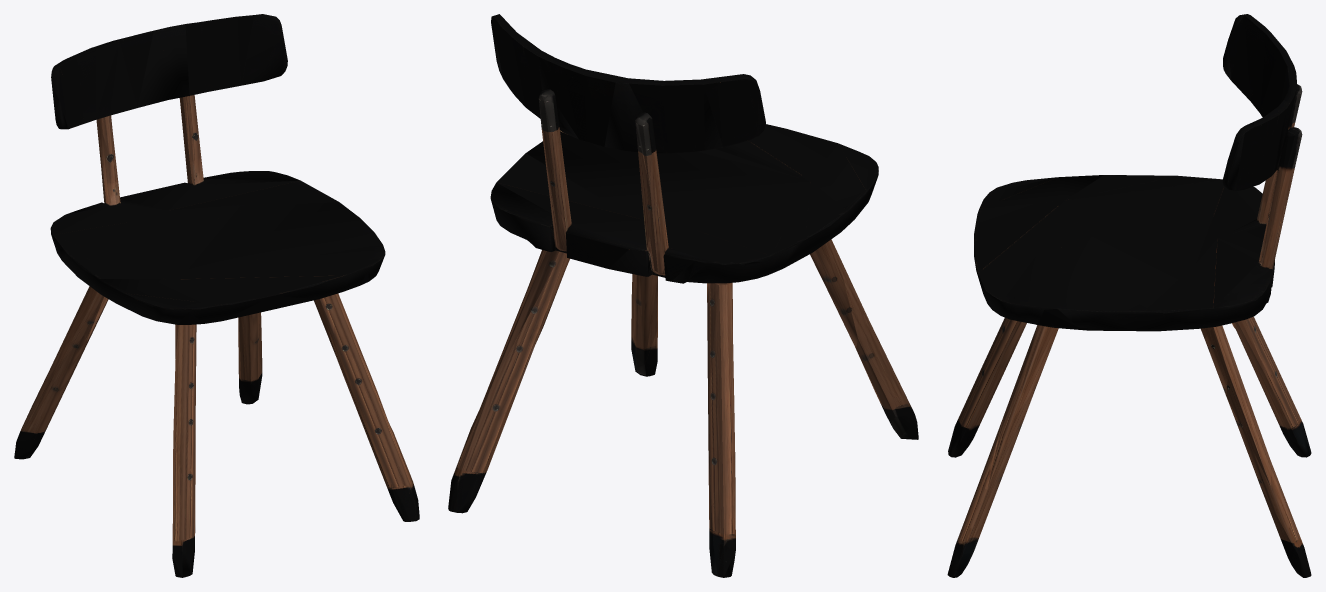
Rendered from IT_Clutter_Chair.fbx.
3 views of the same model, side by side, from view 1: azimuth 30°, elevation 25°; view 2: azimuth 150°, elevation 25°; view 3: azimuth 270°, elevation 25° (orthographic). The views are drawn at different scales.
Visible parts, largest first — view 1: Mesh_0; view 2: Mesh_0; view 3: Mesh_0.
Boxes of the visible parts, x1,y1,x2,y2 form: Mesh_0: [14, 14, 419, 577]; Mesh_0: [448, 14, 918, 577]; Mesh_0: [947, 14, 1311, 577].
Bounding box in the file's own units: 126 × 190 × 141.
Materials: 1 (1 with a texture image).
